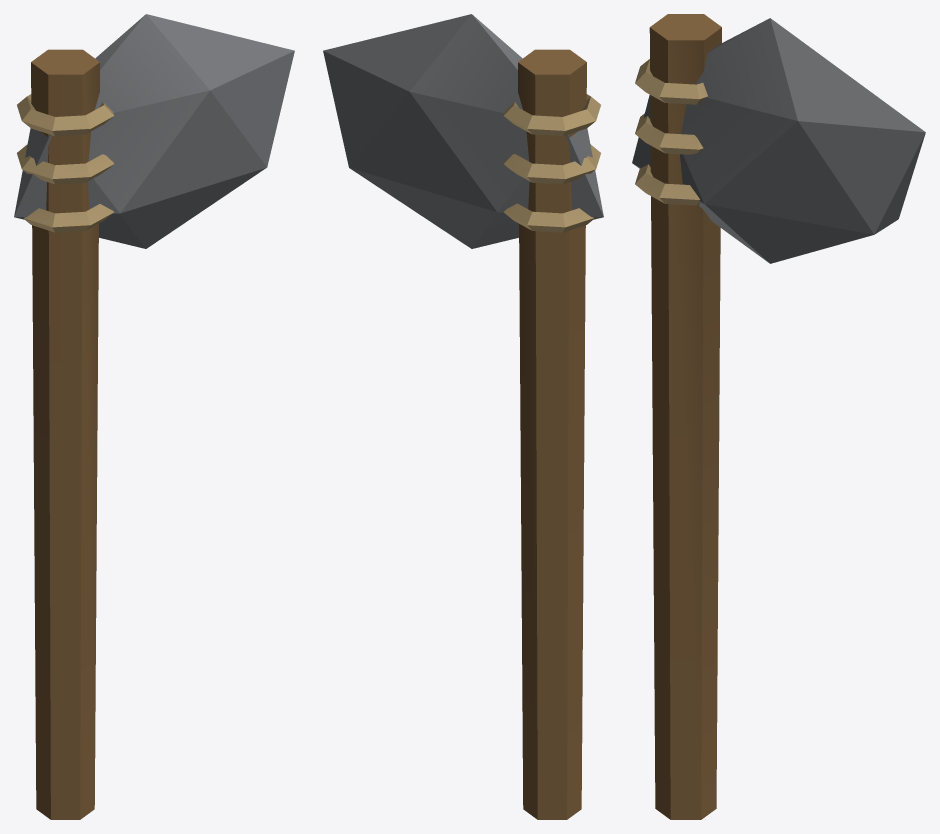
The model's file is Axe.fbx.
The picture shows the model from 3 angles, left to right: view 1: azimuth 30°, elevation 25°; view 2: azimuth 150°, elevation 25°; view 3: azimuth 330°, elevation 25°; orthographic projection. The views are drawn at different scales.
Parts seen in each view (by area): view 1: Axe; view 2: Axe; view 3: Axe.
Boxes of the visible parts, left/top/right/bottom form: Axe: left=14, top=14, right=294, bottom=819; Axe: left=323, top=14, right=603, bottom=819; Axe: left=632, top=14, right=925, bottom=819.
Size of the model in its own units: 0.244 by 0.6437 by 0.076.
